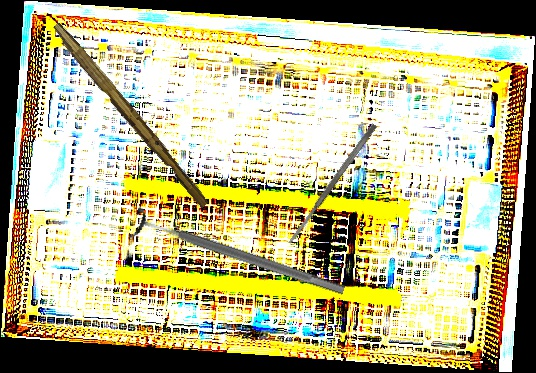Fixation Ring: (128, 205, 349, 308)
Scalpel Handle: (46, 21, 214, 210)
Spatula Surgical: (285, 122, 379, 246)
